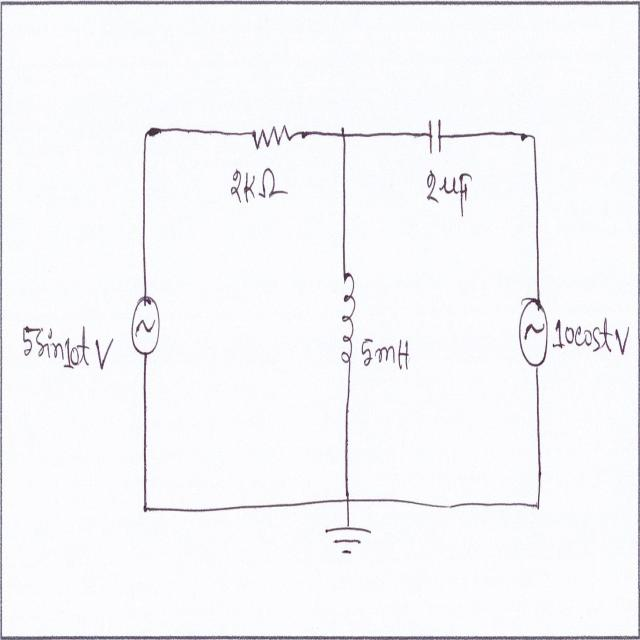ac_current: (518, 292, 548, 372), (130, 291, 162, 359)
capacitor: (426, 118, 445, 157)
ground: (321, 521, 376, 567)
inductor: (340, 260, 354, 374)
resistor: (252, 118, 291, 151)
